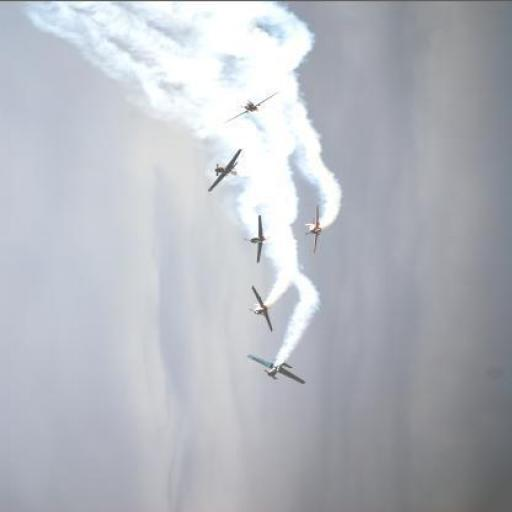aircraft: (245, 355, 306, 386), (224, 92, 280, 125), (207, 148, 245, 193), (251, 284, 274, 334), (305, 204, 323, 255), (251, 214, 267, 264)
